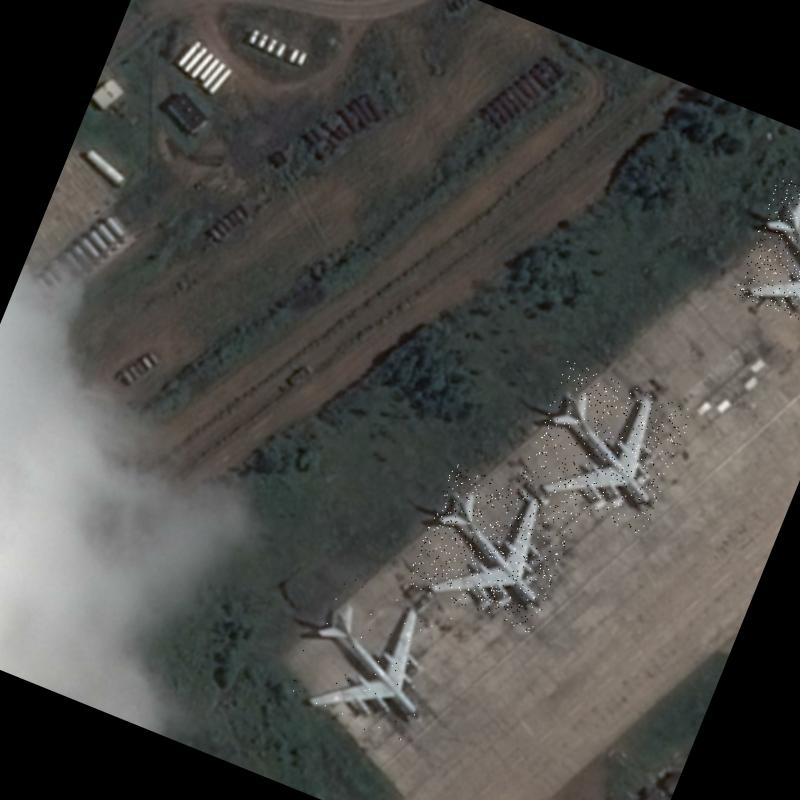A17: (282, 570, 460, 748), (516, 360, 694, 536), (404, 463, 580, 634), (731, 175, 800, 341)
